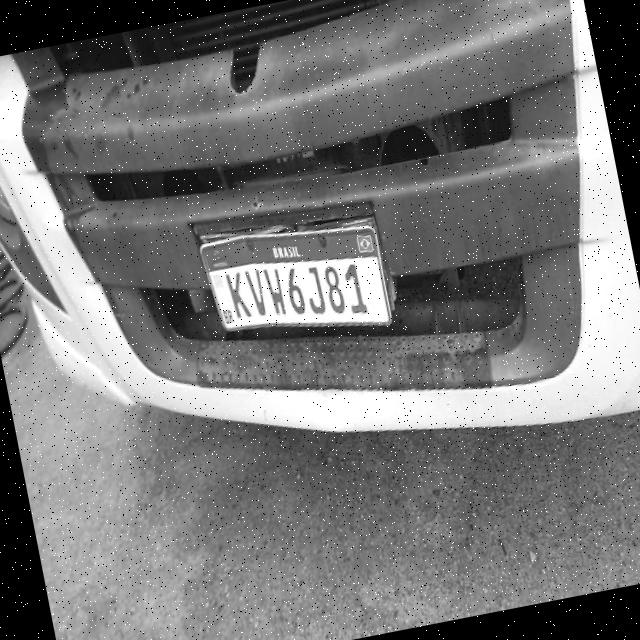placa_mercosul: (205, 226, 396, 333)
